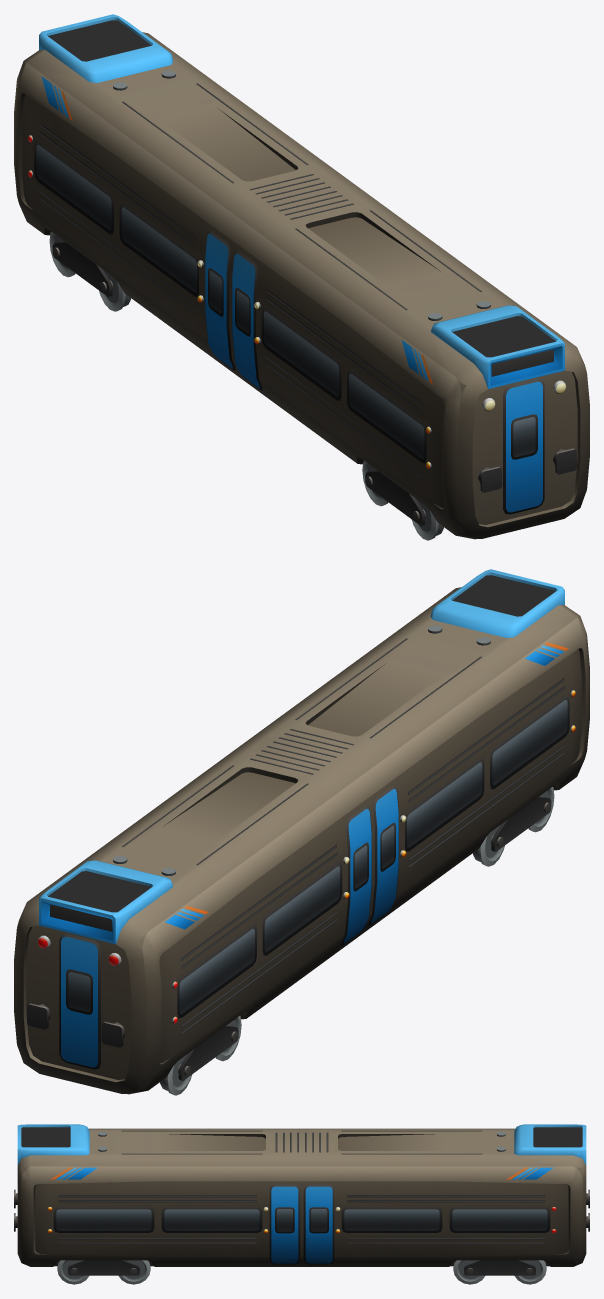
Rendered from Train_Cart_2A.fbx.
The picture shows the model from 3 angles, top to bottom: view 1: azimuth 30°, elevation 25°; view 2: azimuth 150°, elevation 25°; view 3: azimuth 270°, elevation 25°; orthographic projection. The views are drawn at different scales.
Parts seen in each view (by area): view 1: Train_Cart_2A; view 2: Train_Cart_2A; view 3: Train_Cart_2A, Train_Cart_2A_Wheel_F.L, Train_Cart_2A_Wheel_M1.L, Train_Cart_2A_Wheel_R.L, Train_Cart_2A_Wheel_M2.L.
Boxes of the visible parts, <box> form: Train_Cart_2A: <box>14,14,589,539</box>; Train_Cart_2A: <box>14,569,589,1094</box>; Train_Cart_2A: <box>14,1124,589,1275</box>; Train_Cart_2A_Wheel_F.L: <box>57,1260,89,1284</box>; Train_Cart_2A_Wheel_M1.L: <box>118,1260,150,1284</box>; Train_Cart_2A_Wheel_R.L: <box>514,1260,546,1284</box>; Train_Cart_2A_Wheel_M2.L: <box>453,1260,485,1284</box>.
Bounding box in the file's own units: 3.03 × 3.98 × 16.
